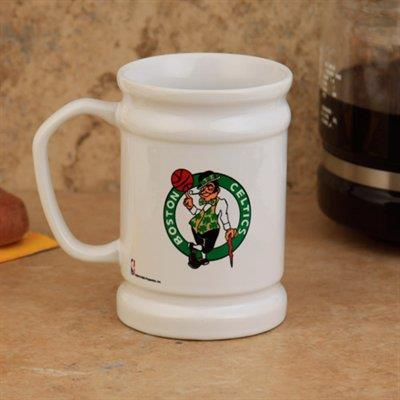Boston_Celtics: (153, 158, 257, 283)
